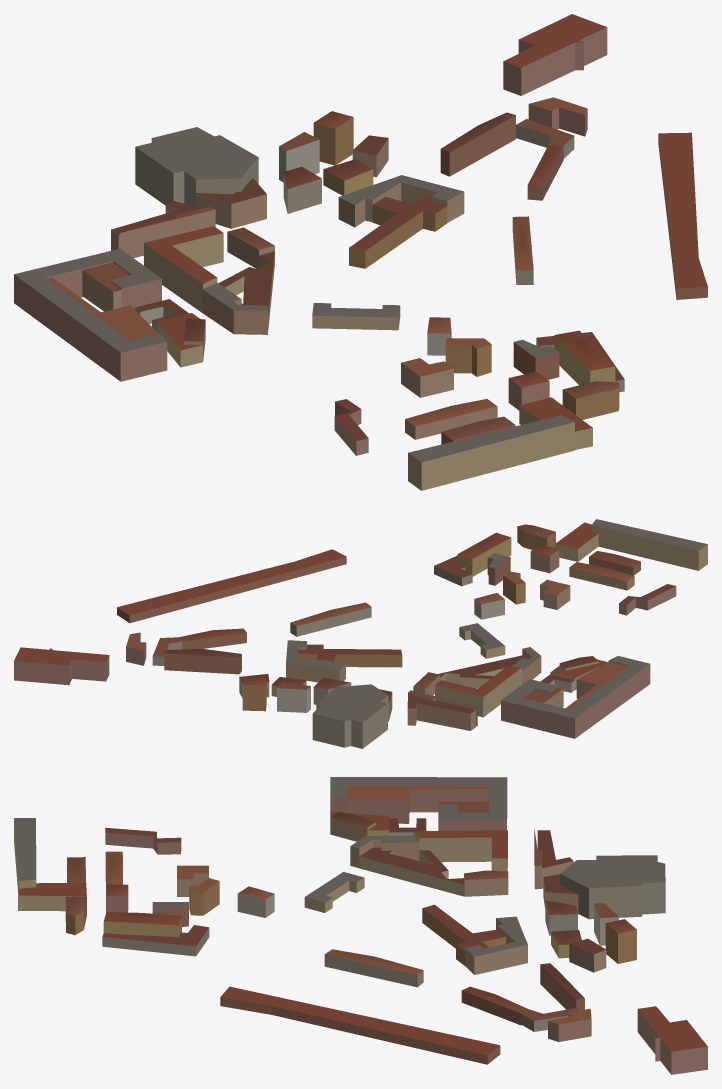
File: SM_Fondale_Citta_Colle_04_LOD1.fbx
The picture shows the model from 3 angles, top to bottom: view 1: azimuth 30°, elevation 25°; view 2: azimuth 150°, elevation 25°; view 3: azimuth 270°, elevation 25°; orthographic projection. The views are drawn at different scales.
Visible parts, largest first — view 1: SM_Fondale_Citta_Colle_04_LOD1; view 2: SM_Fondale_Citta_Colle_04_LOD1; view 3: SM_Fondale_Citta_Colle_04_LOD1.
Boxes of the visible parts, box(x1,y1,x2,y2) form: SM_Fondale_Citta_Colle_04_LOD1: box(14, 14, 707, 490); SM_Fondale_Citta_Colle_04_LOD1: box(14, 519, 707, 748); SM_Fondale_Citta_Colle_04_LOD1: box(14, 777, 707, 1074).
Bounding box in the file's own units: 41767 × 43867 × 2592.
